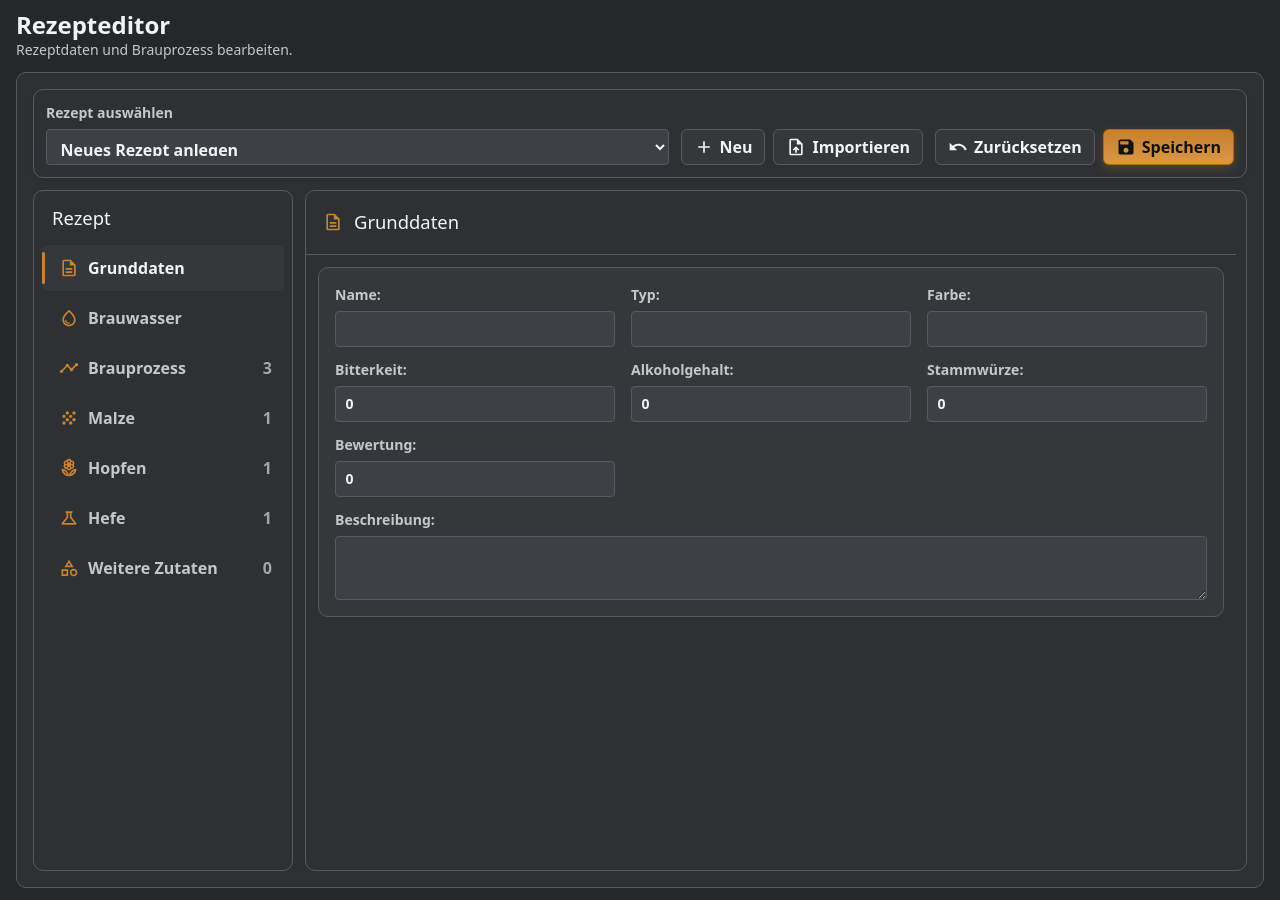
Test: BeerForm section navigation › always renders fixed steps and no time inputs for mash-in and mash-out
Click the button "Brauprozess 3": coordinates (163, 368) [42,345,284,391]
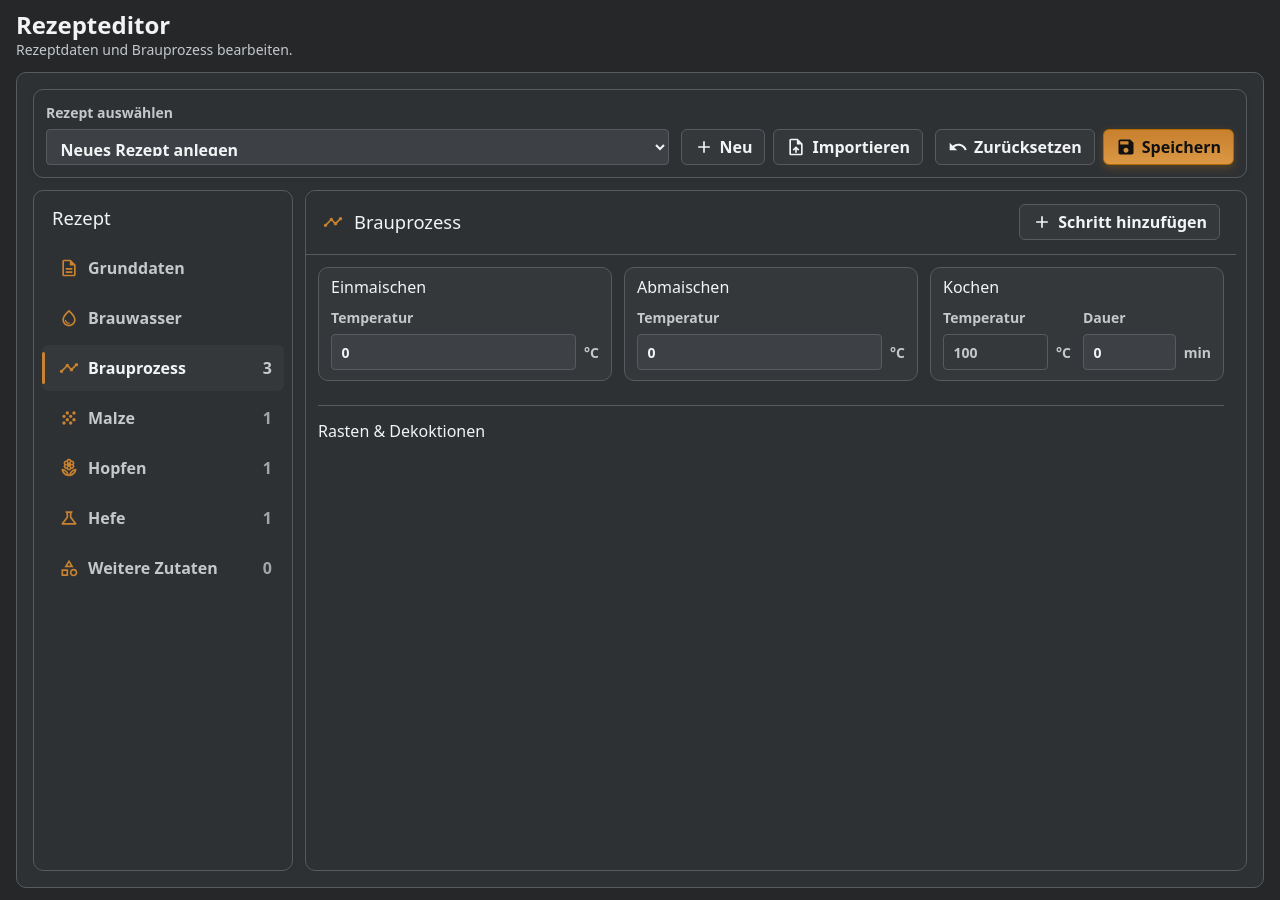
Check: the heading "Einmaischen" is shown, box [331,276,426,298]
Check: the heading "Abmaischen" is shown, box [637,276,729,298]
Check: the heading "Kochen" is shown, box [943,276,999,298]
